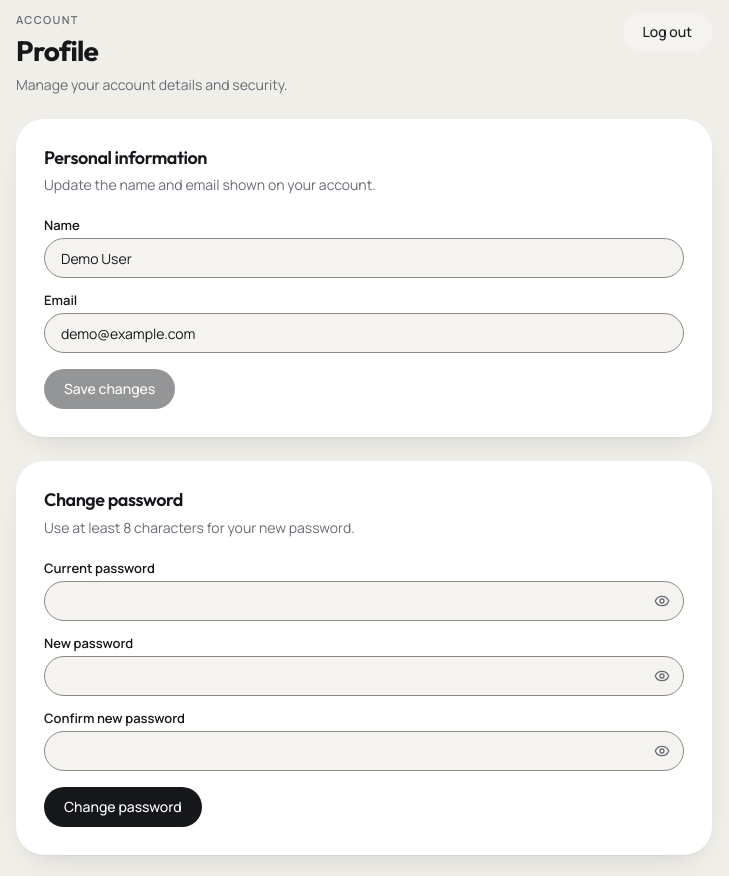
Test: ProfilePage › turns a cleared name into null and seeds the returned user into cache
Expected: the field labelled "Email" holds "demo@example.com", [44,313,684,353]
Clear the field labelled "Name" at (364, 258), box [44,238,684,278]
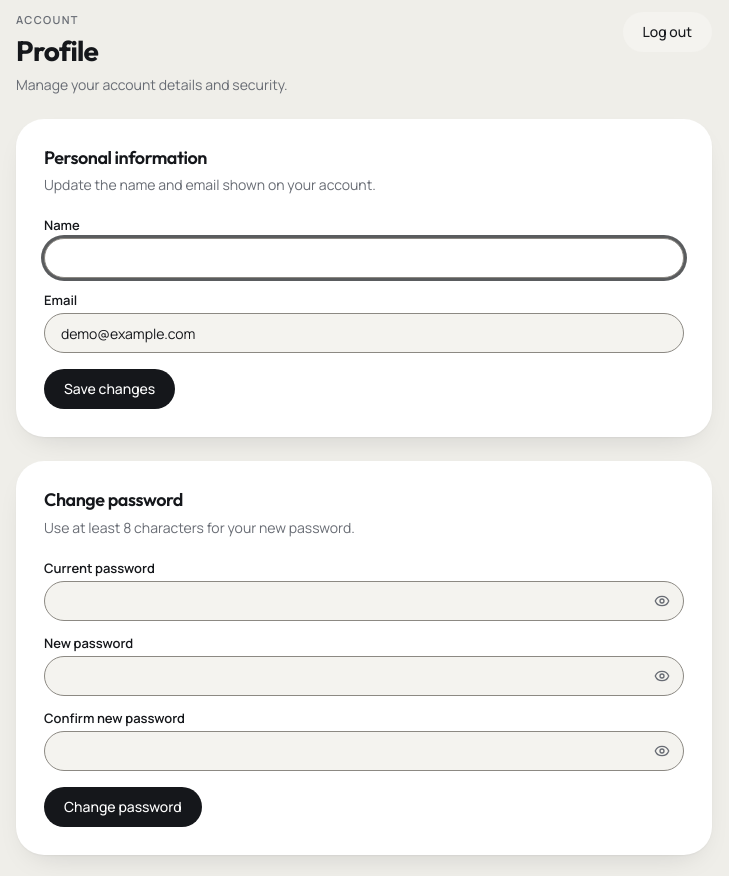
Click the button "Save changes" at (110, 389), box [44,369,175,409]
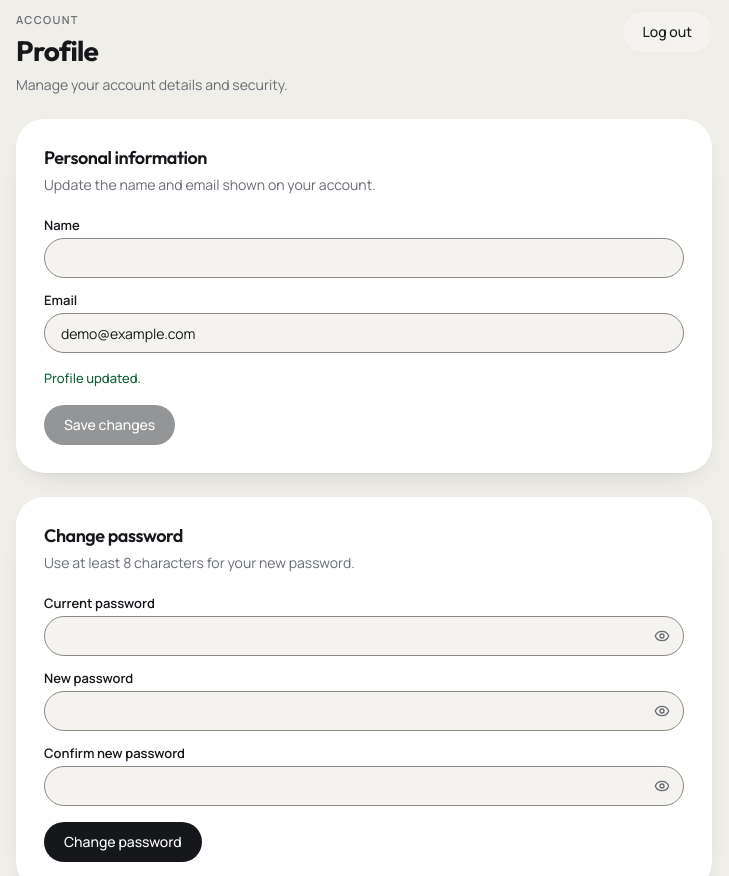
Result: the message reads "Profile updated." at [44,369,141,387]
